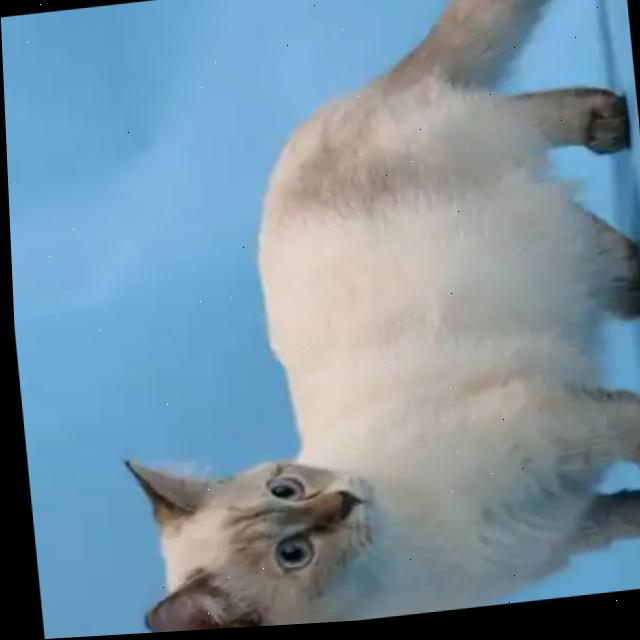Munchkin: (70, 0, 640, 637)
